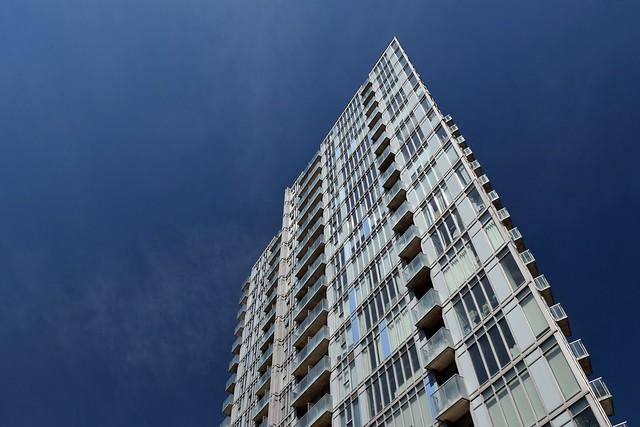building: (217, 29, 636, 427)
